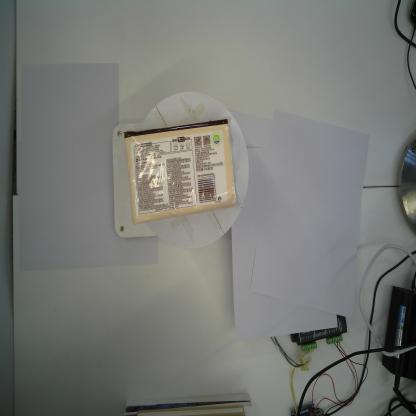Tissue: (123, 118, 236, 224)
